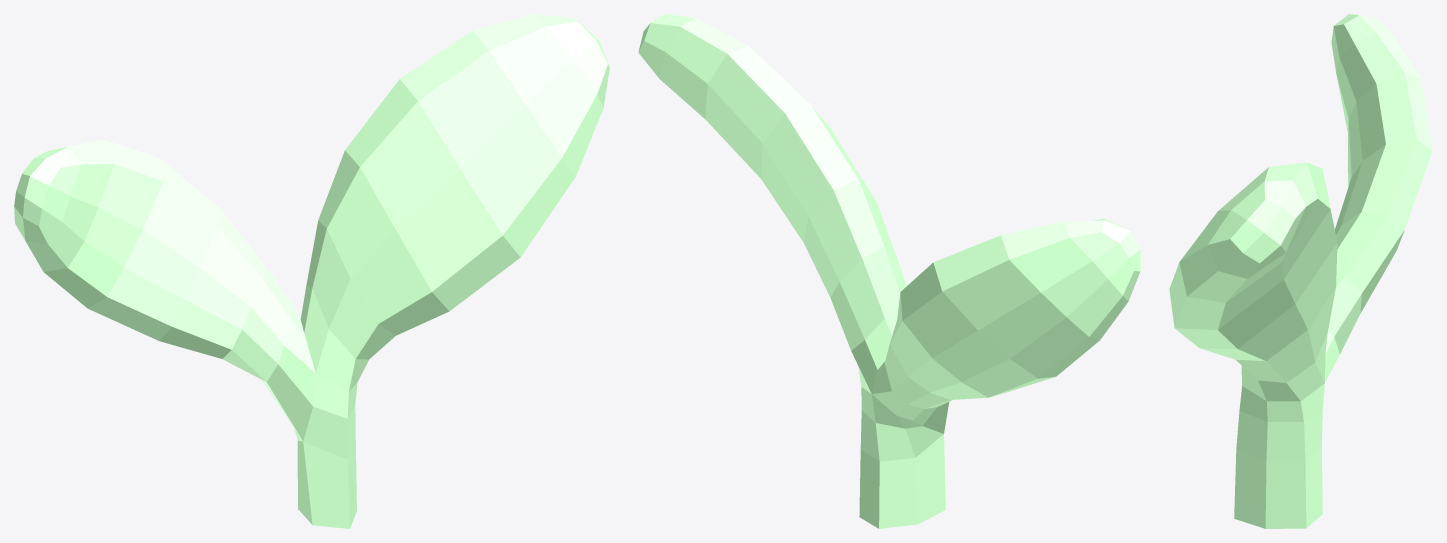
Rendered from seedling_normal.glb.
3 views of the same model, side by side, from view 1: azimuth 30°, elevation 25°; view 2: azimuth 150°, elevation 25°; view 3: azimuth 270°, elevation 25° (orthographic).
Visible parts, largest first — view 1: Seedling; view 2: Seedling; view 3: Seedling.
Part boxes in pixels (x1,y1,x2,y2): Seedling: (14,14,609,528); Seedling: (638,14,1140,528); Seedling: (1169,14,1432,528).
Size of the model in its own units: 0.7311 by 0.5749 by 0.3096.
